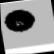correct: (0, 5, 42, 38)
